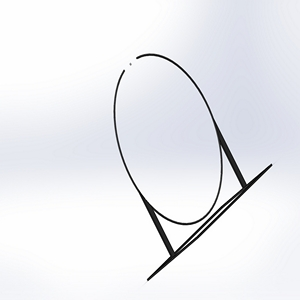circle: (111, 50, 273, 282)
